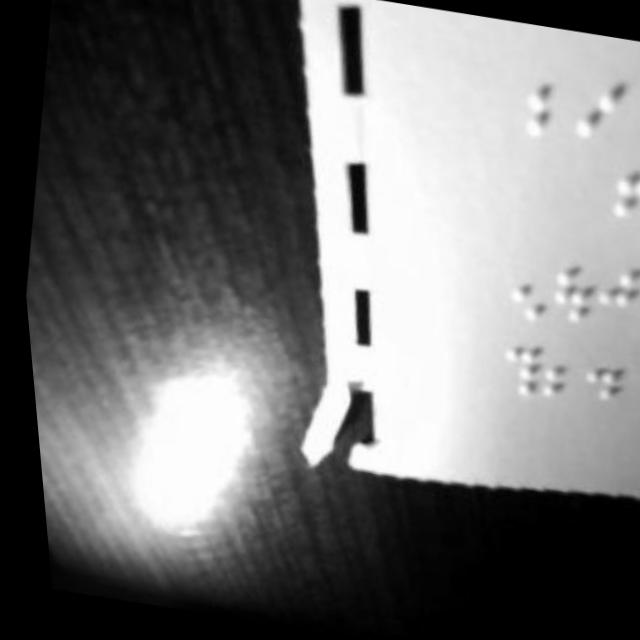braiile: (564, 53, 634, 154), (515, 54, 579, 149), (538, 245, 600, 335), (495, 247, 551, 330), (531, 334, 584, 409), (570, 342, 622, 413)
